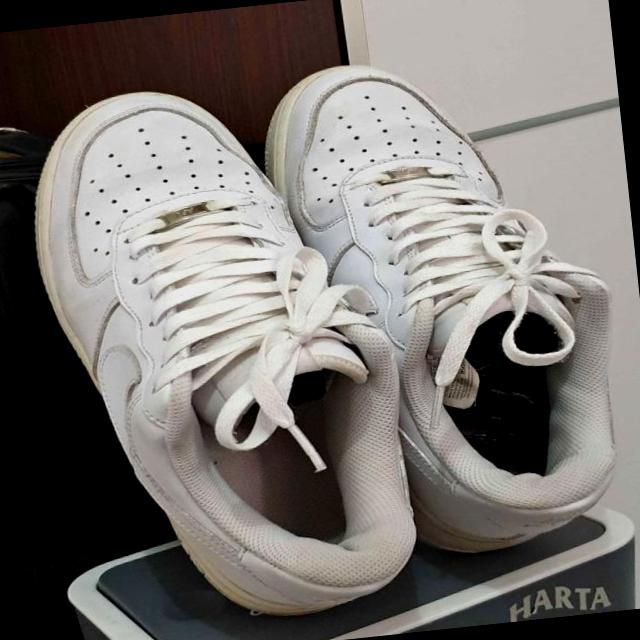nike_original_airforce: (24, 63, 430, 640), (246, 34, 640, 568)
